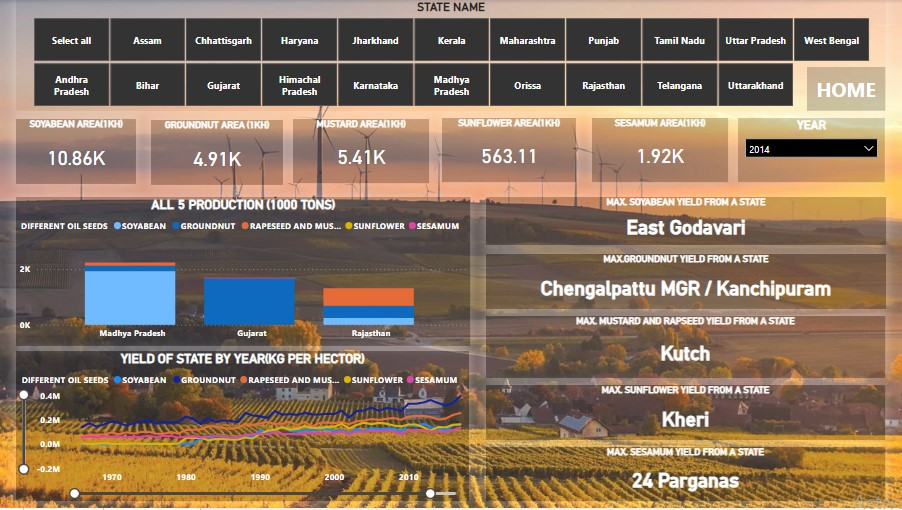

The dashboard page shown, as its layout file describes it:
{"tool":"powerbi","page":{"name":"OIL SEEDS","canvas":[1280,720],"ordinal":2},"visuals":[{"type":"slicer","title":"YEAR","fields":{"Values":["ICRISAT-District Level Data.Year"]},"box":[1047.4,167.2,208.3,90.7],"z":0},{"type":"slicer","title":"STATE NAME","fields":{"Values":["ICRISAT-District Level Data.State Name"]},"box":[0,0,1280,167],"z":1000},{"type":"columnChart","title":"ALL 5 PRODUCTION (1000 TONS)","fields":{"Category":["ICRISAT-District Level Data.State Name","ICRISAT-District Level Data.Dist Name"],"Y":["Sum(ICRISAT-District Level Data.GROUNDNUT PRODUCTION (1000 tons))","Sum(ICRISAT-District Level Data.RAPESEED AND MUSTARD PRODUCTION (1000 tons))","Sum(ICRISAT-District Level Data.SESAMUM PRODUCTION (1000 tons))","Sum(ICRISAT-District Level Data.SOYABEAN PRODUCTION (1000 tons))","Sum(ICRISAT-District Level Data.SUNFLOWER PRODUCTION (1000 tons))"]},"box":[24.3,279.7,643.6,211.2],"z":2000},{"type":"card","title":"SUNFLOWER AREA(1KH)","fields":{"Values":["Sum(ICRISAT-District Level Data.SUNFLOWER AREA (1000 ha))"]},"box":[627.9,167.2,189.9,90.7],"z":3000},{"type":"card","title":"SESAMUM AREA(1KH)","fields":{"Values":["Sum(ICRISAT-District Level Data.SESAMUM AREA (1000 ha))"]},"box":[840.5,167.2,192.8,90.7],"z":4000},{"type":"card","title":"MUSTARD AREA(1KH)","fields":{"Values":["Sum(ICRISAT-District Level Data.RAPESEED AND MUSTARD AREA (1000 ha))"]},"box":[416.7,168.7,192.8,90.7],"z":5000},{"type":"card","title":"GROUNDNUT AREA (1KH)","fields":{"Values":["Sum(ICRISAT-District Level Data.GROUNDNUT AREA (1000 ha))"]},"box":[215.4,170.1,187.1,92.1],"z":6000},{"type":"card","title":"SOYABEAN AREA(1KH)","fields":{"Values":["Sum(ICRISAT-District Level Data.SOYABEAN AREA (1000 ha))"]},"box":[24.1,168.7,170.1,92.1],"z":7000},{"type":"lineChart","title":"YIELD OF STATE BY YEAR(KG PER HECTOR)","fields":{"Category":["ICRISAT-District Level Data.Year"],"Y":["Sum(ICRISAT-District Level Data.SOYABEAN YIELD (Kg per ha))","Sum(ICRISAT-District Level Data.GROUNDNUT YIELD (Kg per ha))","Sum(ICRISAT-District Level Data.RAPESEED AND MUSTARD YIELD (Kg per ha))","Sum(ICRISAT-District Level Data.SUNFLOWER YIELD (Kg per ha))","Sum(ICRISAT-District Level Data.SESAMUM YIELD (Kg per ha))"]},"box":[24.1,497.5,642,212.6],"z":8000},{"type":"card","title":"MAX. SOYABEAN YIELD FROM A STATE","fields":{"Values":["Min(ICRISAT-District Level Data.Dist Name)"]},"box":[690.2,279.2,566.9,68],"z":9000},{"type":"card","title":"MAX.GROUNDNUT YIELD FROM A STATE","fields":{"Values":["Min(ICRISAT-District Level Data.Dist Name)"]},"box":[690.2,360,566.9,78],"z":10000},{"type":"card","title":"MAX. MUSTARD AND RAPSEED YIELD FROM A STATE","fields":{"Values":["Min(ICRISAT-District Level Data.Dist Name)"]},"box":[690.2,447.9,565.5,87.9],"z":11000},{"type":"card","title":"MAX. SUNFLOWER YIELD FROM A STATE","fields":{"Values":["Min(ICRISAT-District Level Data.Dist Name)"]},"box":[690.2,545.7,565.5,78],"z":12000},{"type":"card","title":"MAX. SESAMUM YIELD FROM A STATE","fields":{"Values":["Min(ICRISAT-District Level Data.Dist Name)"]},"box":[690.2,633.5,565.5,76.5],"z":13000},{"type":"shape","box":[1146.6,95,110.6,62.4],"z":14000}]}

Visuals, with their boxes in screenshot pixels (x1, y1, x2, y2), scaled from the page's 1280x720 canvas onto the 902x510 screenshot:
"YEAR" slicer: rect(738, 118, 885, 183)
"STATE NAME" slicer: rect(0, 0, 901, 118)
"ALL 5 PRODUCTION (1000 TONS)" columnChart: rect(17, 198, 471, 348)
"SUNFLOWER AREA(1KH)" card: rect(442, 118, 576, 183)
"SESAMUM AREA(1KH)" card: rect(592, 118, 728, 183)
"MUSTARD AREA(1KH)" card: rect(294, 119, 430, 184)
"GROUNDNUT AREA (1KH)" card: rect(152, 120, 284, 186)
"SOYABEAN AREA(1KH)" card: rect(17, 119, 137, 185)
"YIELD OF STATE BY YEAR(KG PER HECTOR)" lineChart: rect(17, 352, 469, 503)
"MAX. SOYABEAN YIELD FROM A STATE" card: rect(486, 198, 886, 246)
"MAX.GROUNDNUT YIELD FROM A STATE" card: rect(486, 255, 886, 310)
"MAX. MUSTARD AND RAPSEED YIELD FROM A STATE" card: rect(486, 317, 885, 380)
"MAX. SUNFLOWER YIELD FROM A STATE" card: rect(486, 387, 885, 442)
"MAX. SESAMUM YIELD FROM A STATE" card: rect(486, 449, 885, 503)
shape: rect(808, 67, 886, 111)
